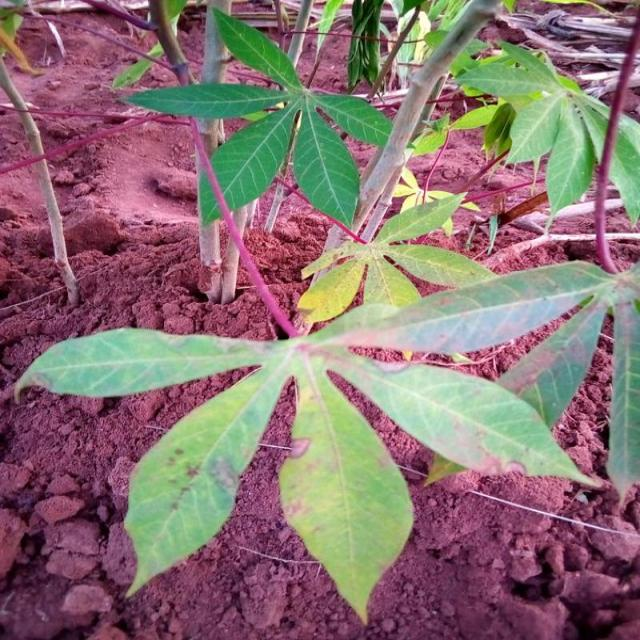cassava leaf: (11, 2, 638, 625), (122, 352, 292, 598), (277, 349, 414, 625), (196, 100, 297, 226)
